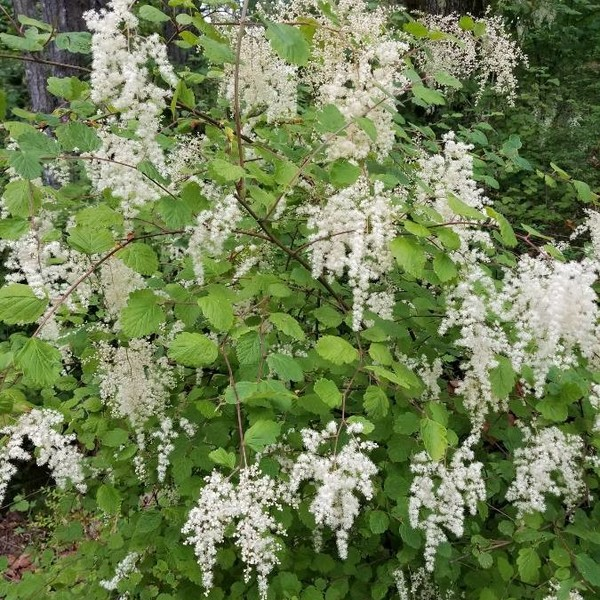obstacle: (85, 39, 513, 488)
